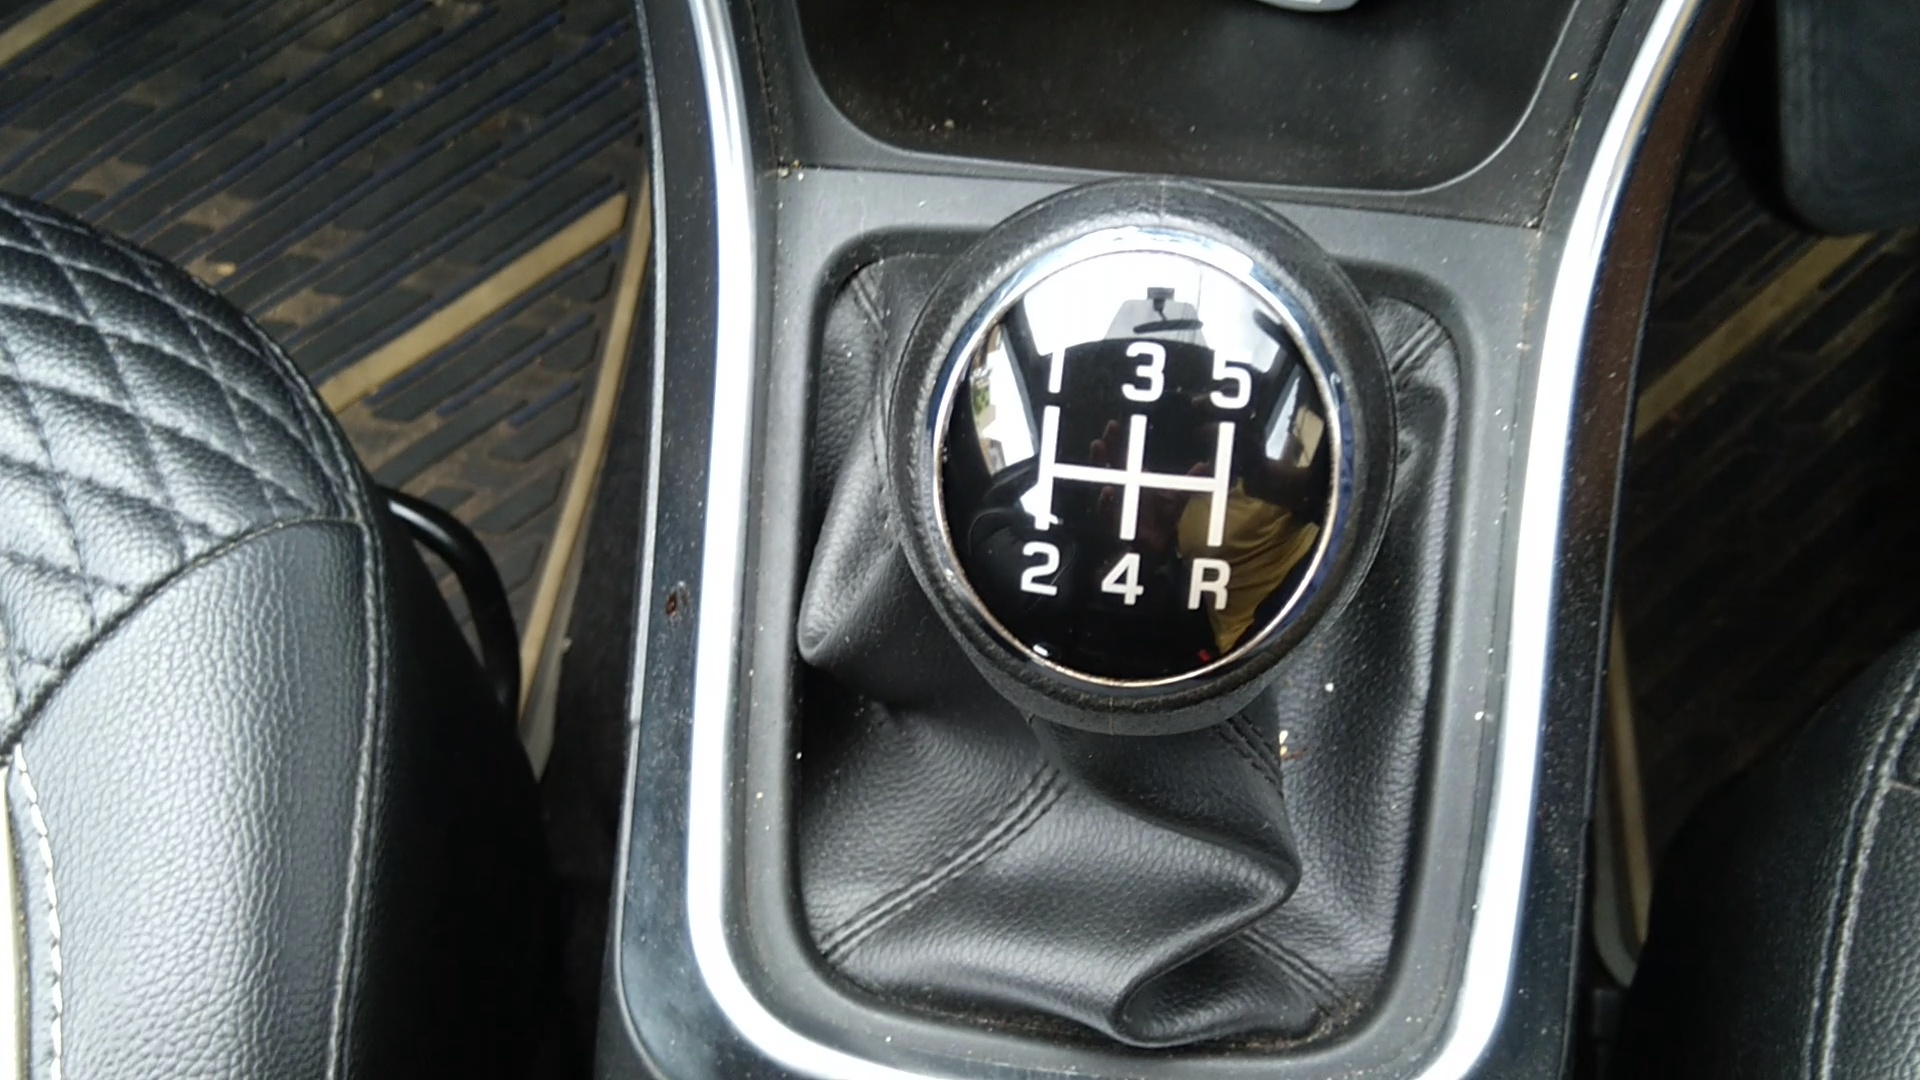manual_gear: (872, 156, 1399, 793)
